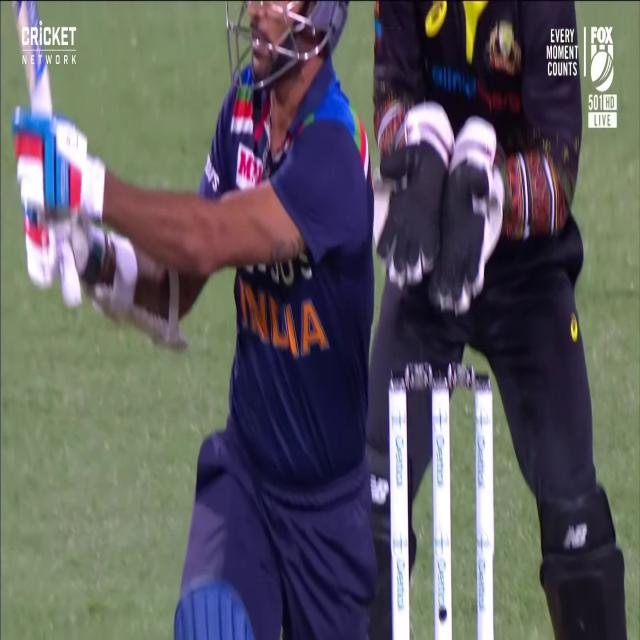stump: (387, 361, 492, 640)
